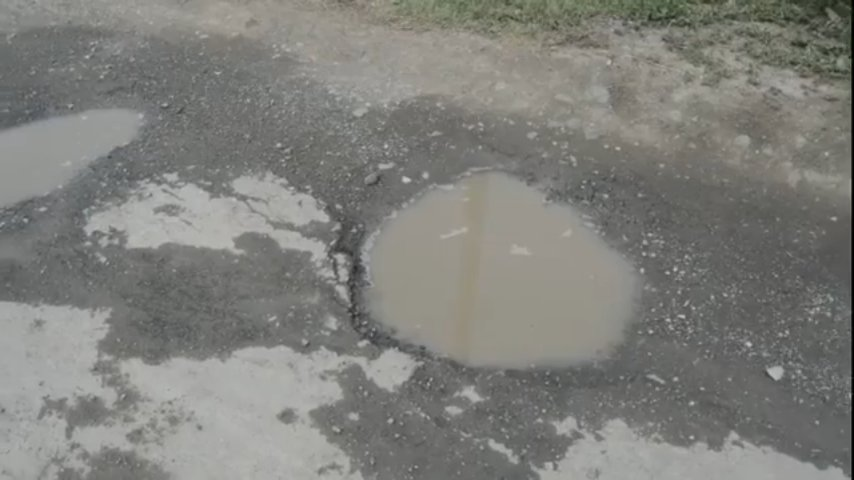pothole: (346, 67, 854, 262), (339, 120, 654, 398)
